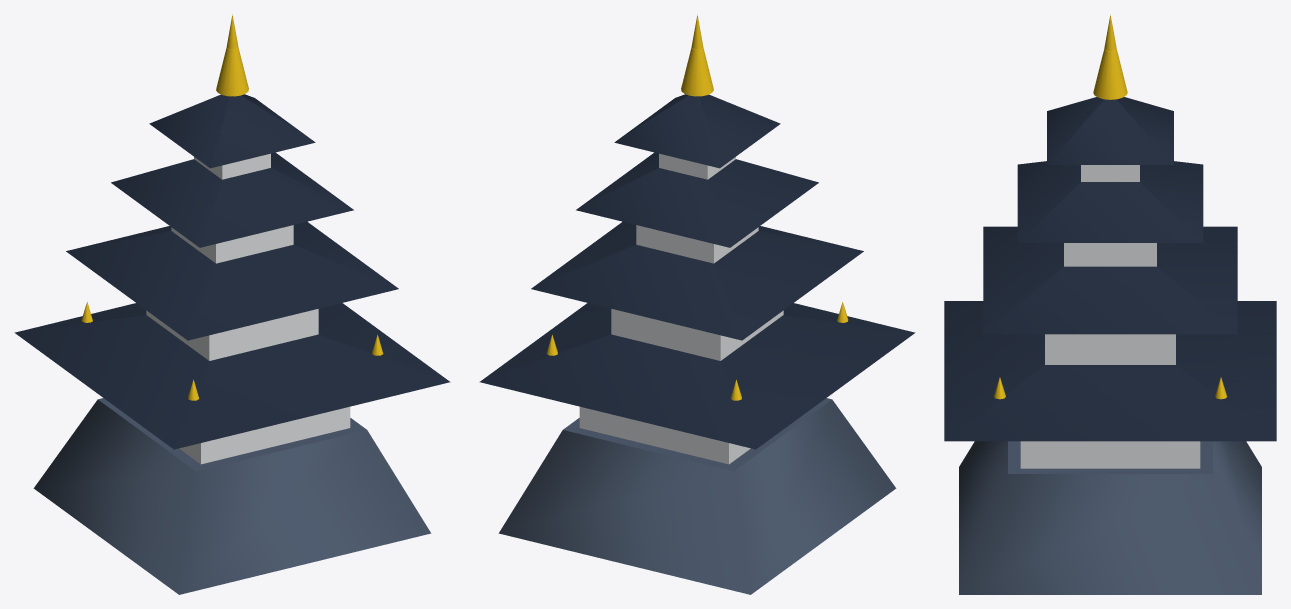
The model's file is arts.glb.
The picture shows the model from 3 angles, left to right: view 1: azimuth 30°, elevation 25°; view 2: azimuth 150°, elevation 25°; view 3: azimuth 270°, elevation 25°; orthographic projection. The views are drawn at different scales.
Size of the model in its own units: 4.81 by 8.26 by 4.81.
